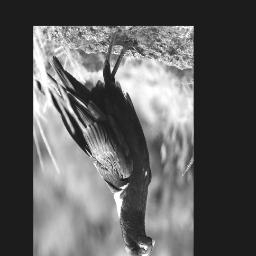Crow: (46, 28, 158, 256)
